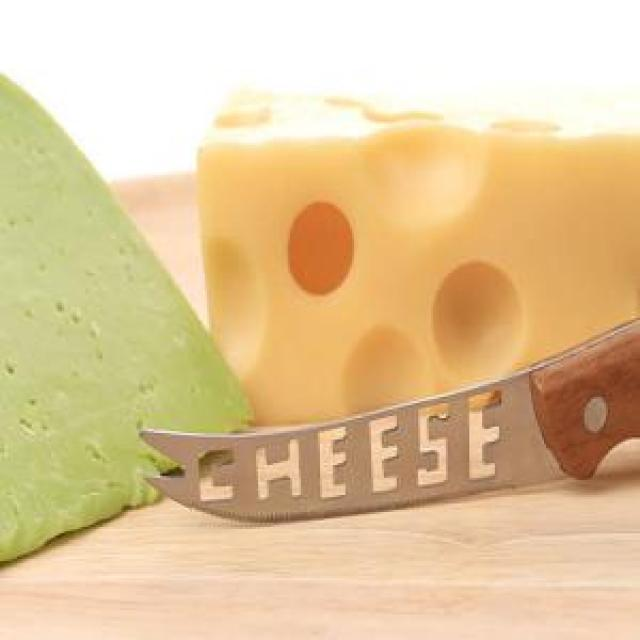knife: (130, 311, 639, 528)
